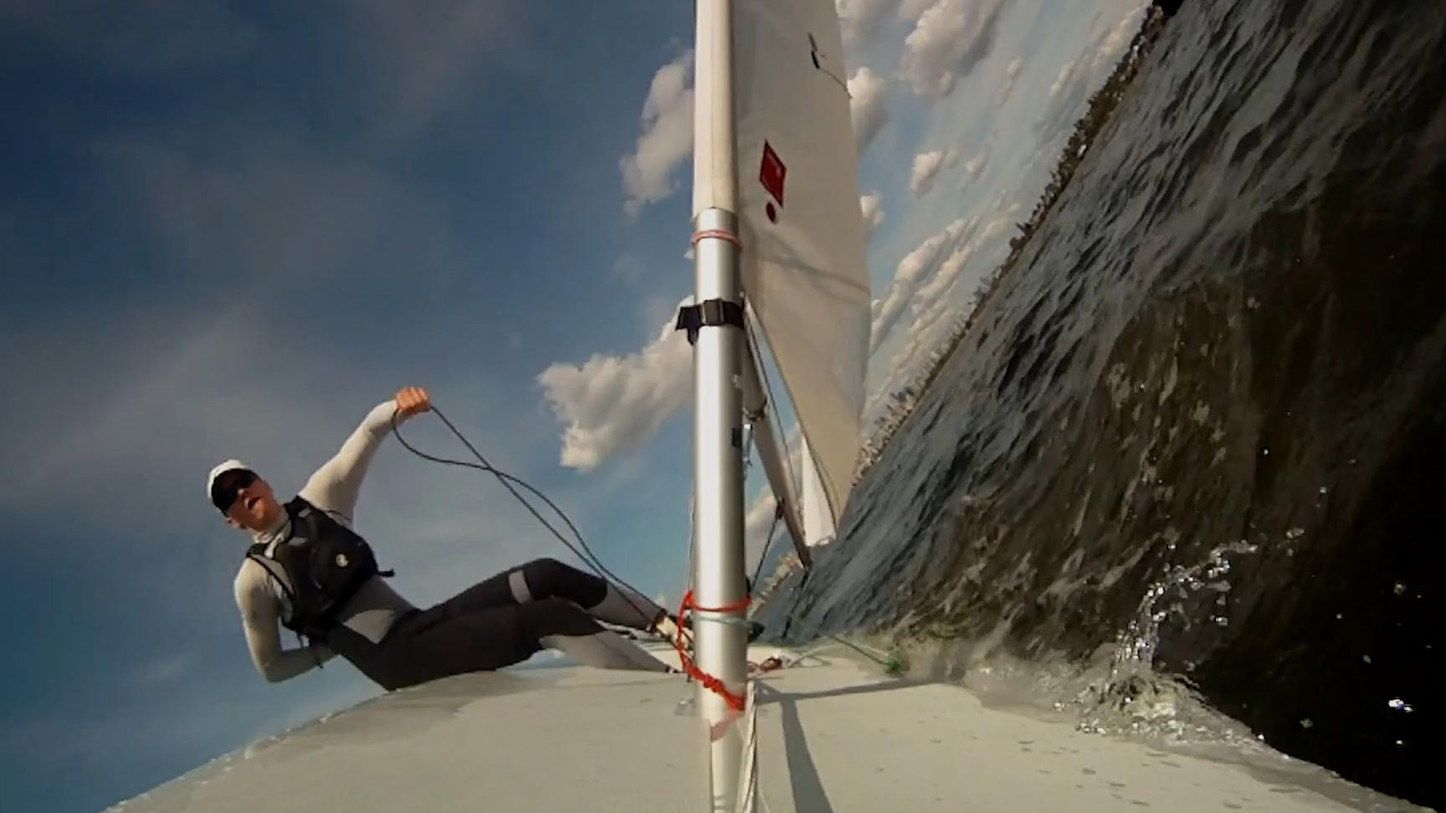boat: (101, 0, 1441, 813)
person: (208, 387, 669, 692)
sea: (754, 0, 1446, 813)
sky: (0, 0, 699, 813), (839, 0, 1154, 439), (745, 427, 793, 589)
